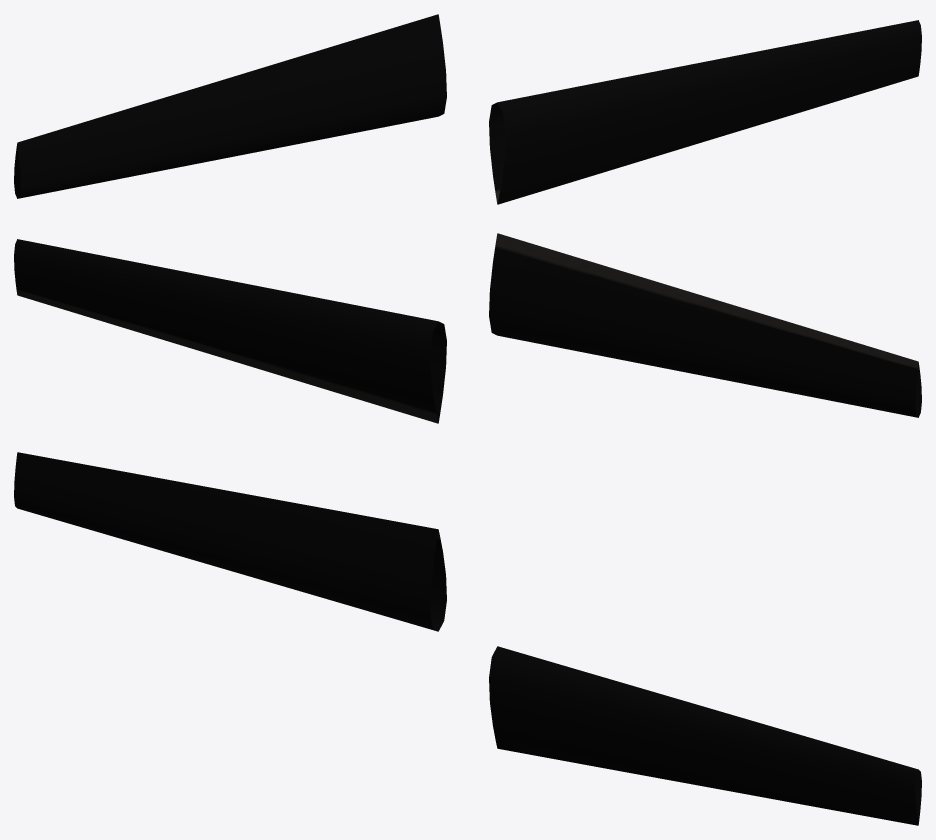
The model's file is drone_prop.obj.
The picture shows the model from 3 angles, top to bottom: view 1: azimuth 30°, elevation 25°; view 2: azimuth 150°, elevation 25°; view 3: azimuth 330°, elevation 25°; orthographic projection.
Bounding box in the file's own units: 0.92 × 0.2 × 0.0298.
